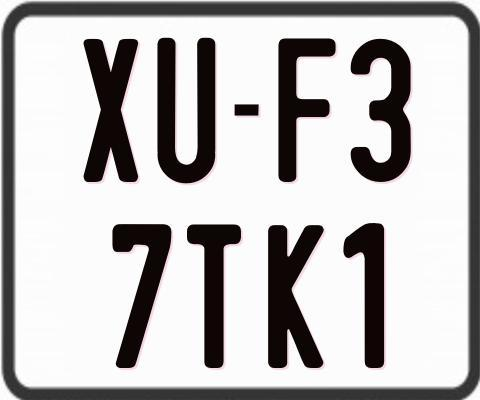1: (341, 221, 386, 369)
3: (349, 39, 415, 184)
7: (109, 223, 171, 368)
F: (278, 36, 341, 186)
K: (268, 222, 329, 367)
T: (185, 223, 244, 368)
U: (155, 36, 214, 185)
X: (81, 38, 139, 185)
